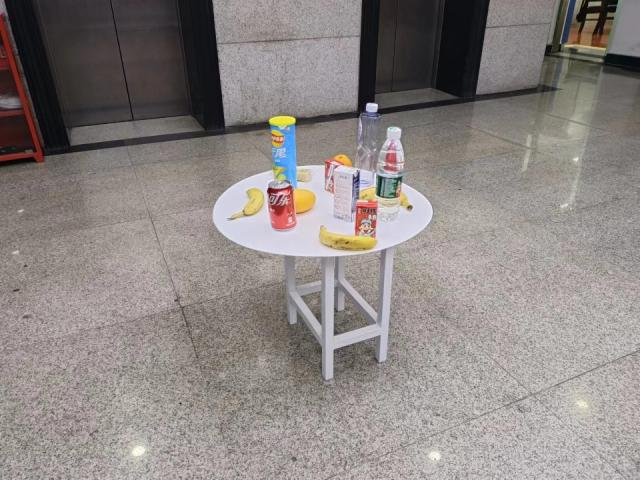Canned_drinks: (266, 179, 298, 232)
bottle: (376, 124, 406, 225), (355, 100, 382, 186)
cylinder: (268, 115, 299, 191)
drink_box: (333, 165, 359, 222), (352, 199, 380, 239), (323, 158, 343, 192)
